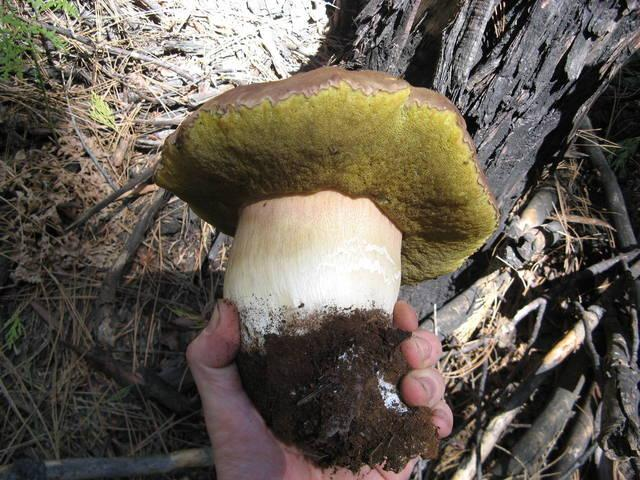Edible Mushroom: (152, 63, 501, 471)
